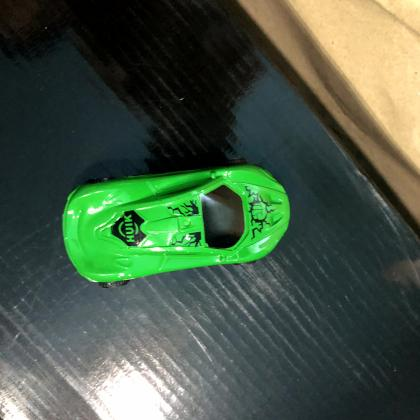Car: (60, 161, 292, 290)
